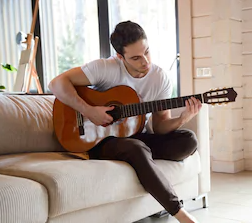fretboard: (120, 93, 202, 118)
